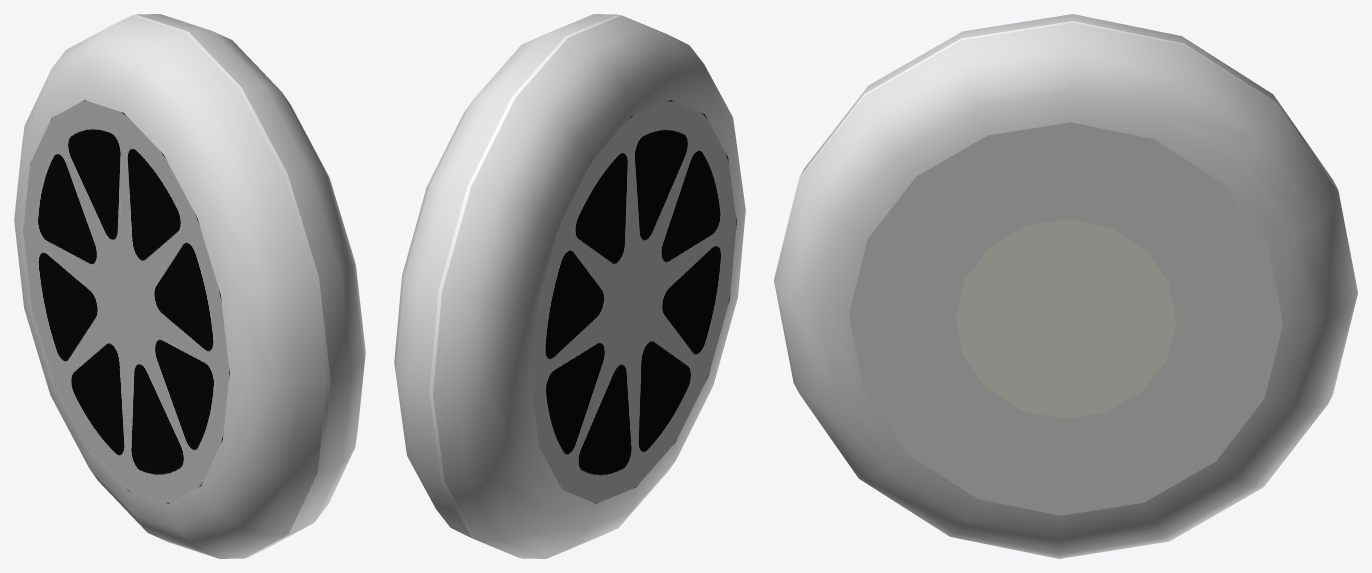
The model's file is frontWheelRight.fbx.
The picture shows the model from 3 angles, left to right: view 1: azimuth 30°, elevation 25°; view 2: azimuth 150°, elevation 25°; view 3: azimuth 270°, elevation 25°; orthographic projection. The views are drawn at different scales.
Parts seen in each view (by area): view 1: frontWheelRight; view 2: frontWheelRight; view 3: frontWheelRight.
Boxes of the visible parts, bbox=[...] form: frontWheelRight: bbox=[14, 14, 365, 558]; frontWheelRight: bbox=[394, 14, 745, 558]; frontWheelRight: bbox=[774, 14, 1357, 558].
Size of the model in its own units: 17.34 by 65.63 by 65.63.
